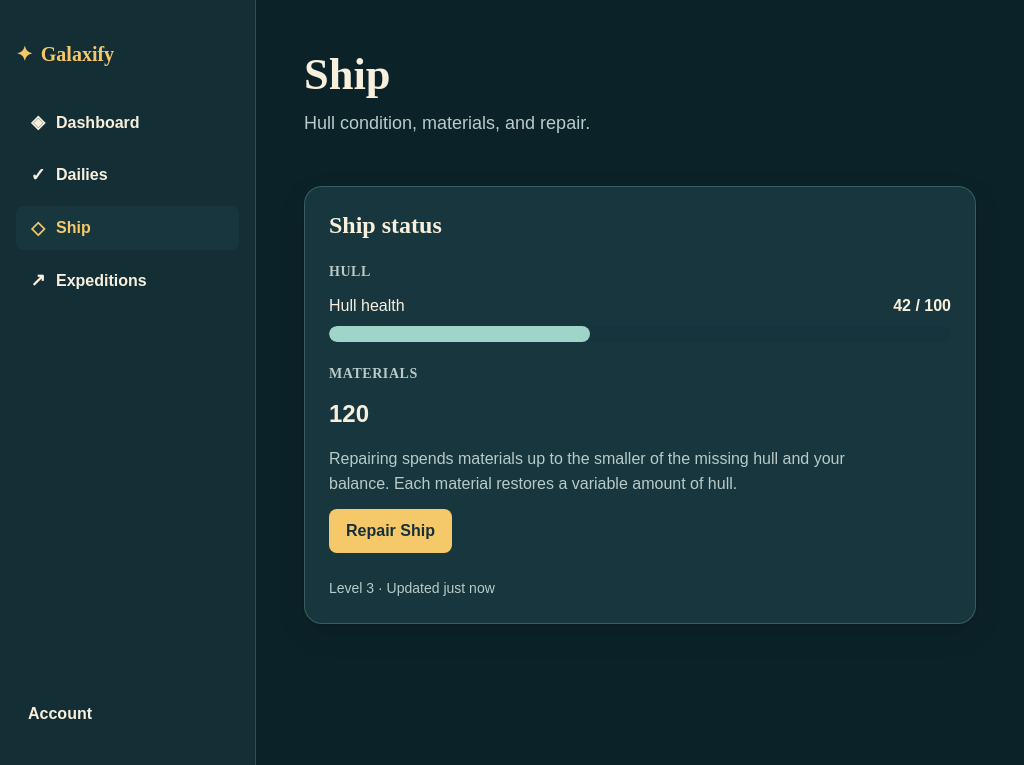
Scenario: Ship page › disables only the repair control while pending and keeps navigation usable
Click the button "Repair Ship" at (390, 531), box x1=329 y1=509 x2=452 y2=553
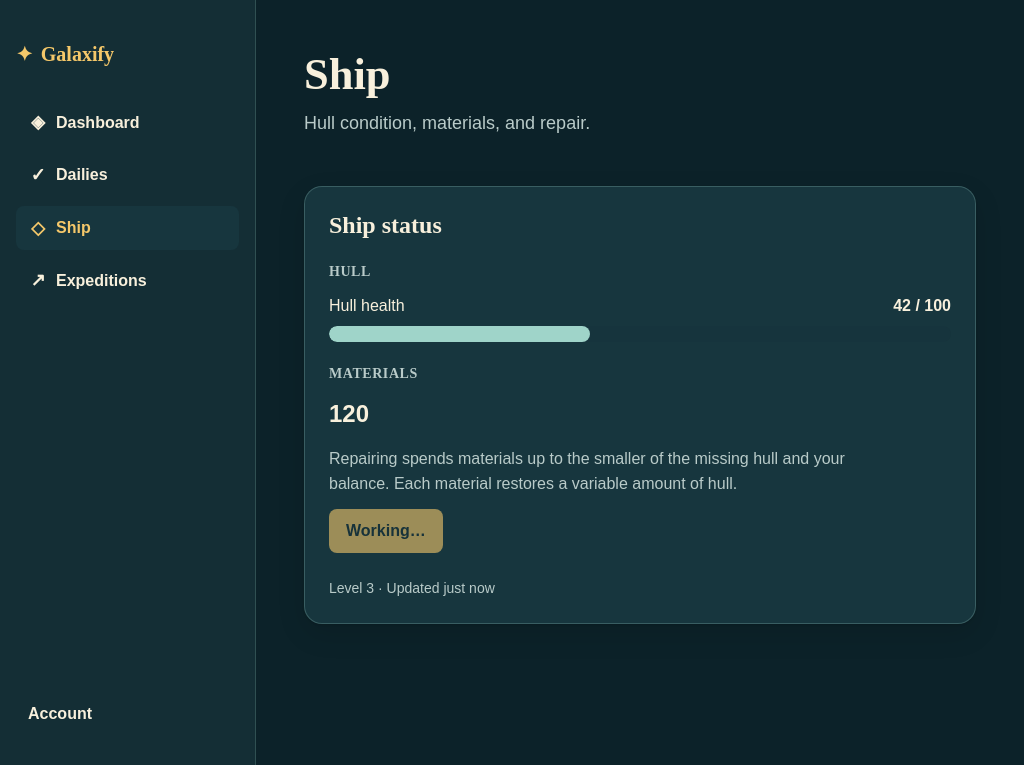
Now the button "Working…" is disabled, box x1=329 y1=509 x2=443 y2=553
Click the link "✓ Dailies" at (69, 175), box x1=30 y1=165 x2=108 y2=185
Wait 1000 ms
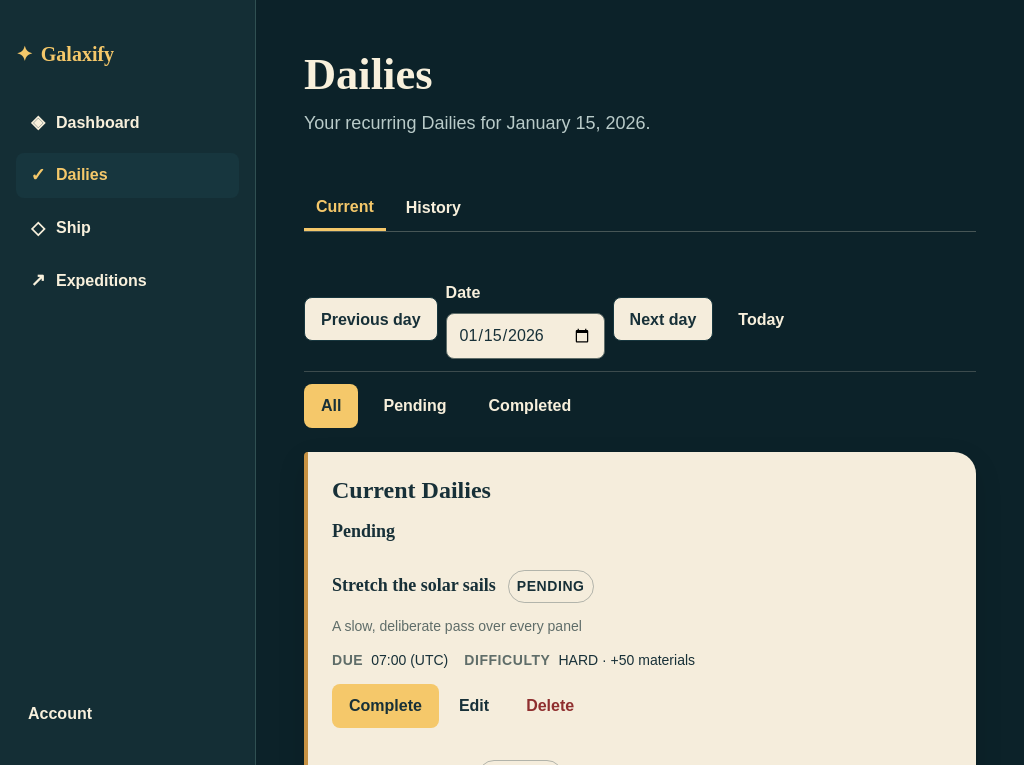
Now the heading "Dailies" is shown, box x1=304 y1=49 x2=432 y2=99
